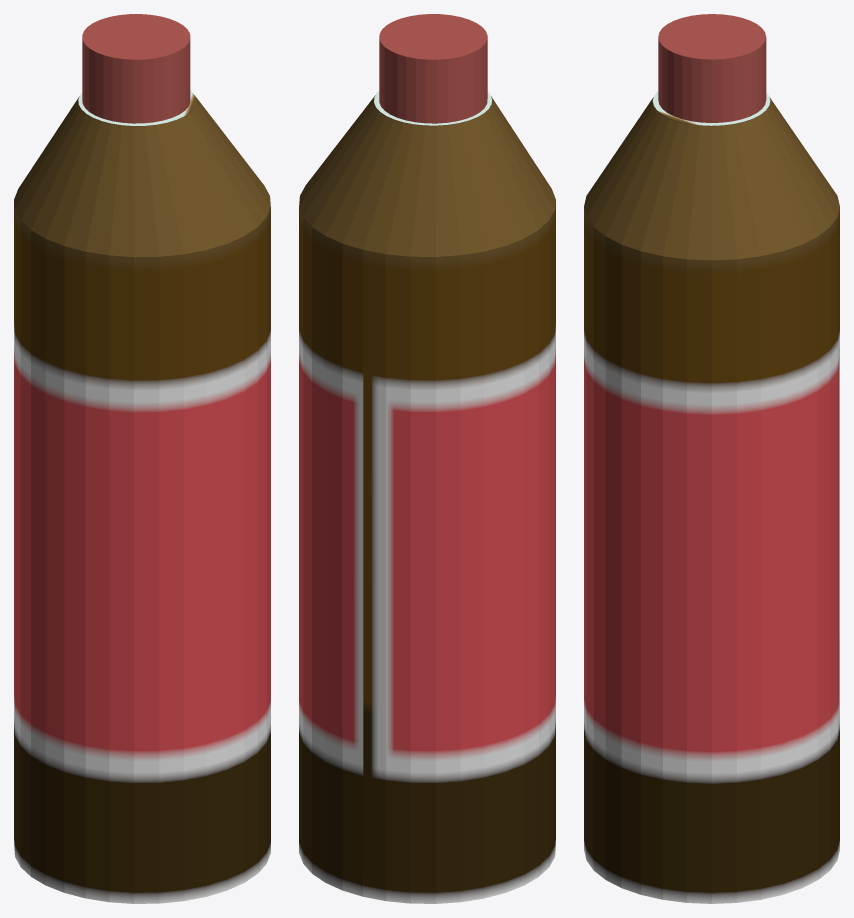
File: Soda.fbx
The picture shows the model from 3 angles, left to right: view 1: azimuth 30°, elevation 25°; view 2: azimuth 150°, elevation 25°; view 3: azimuth 270°, elevation 25°; orthographic projection.
Parts seen in each view (by area): view 1: Soda, Cylinder.001; view 2: Soda, Cylinder.001; view 3: Soda, Cylinder.001.
Boxes of the visible parts, x1,y1,x2,y2 form: Soda: (14,90,270,903); Cylinder.001: (82,14,190,123); Soda: (299,91,555,903); Cylinder.001: (379,14,487,123); Soda: (584,91,839,903); Cylinder.001: (658,14,766,122).
Size of the model in its own units: 46.71 by 163 by 46.71.
Materials: 2 (1 with a texture image).
